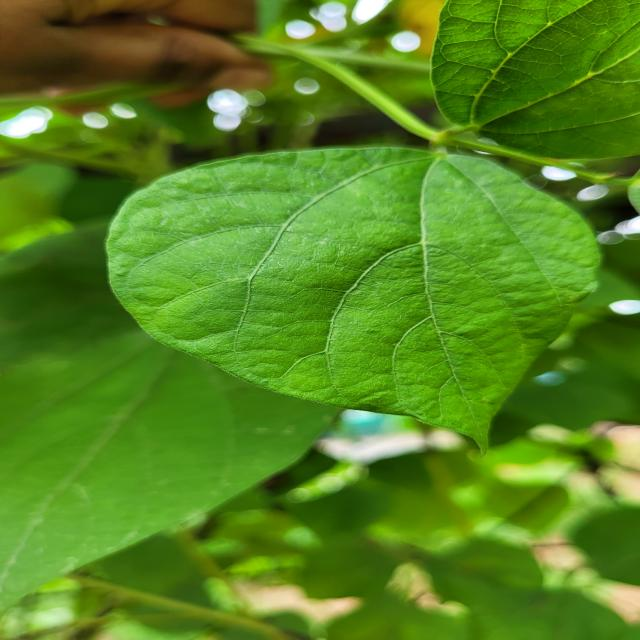Dolicos bean_healthy: (93, 146, 608, 452), (0, 215, 332, 591), (426, 0, 640, 177)
